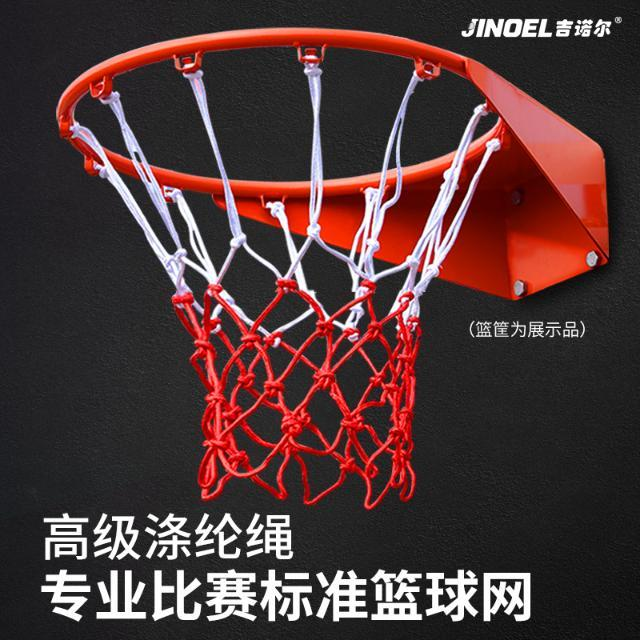rim: (56, 26, 508, 512)
